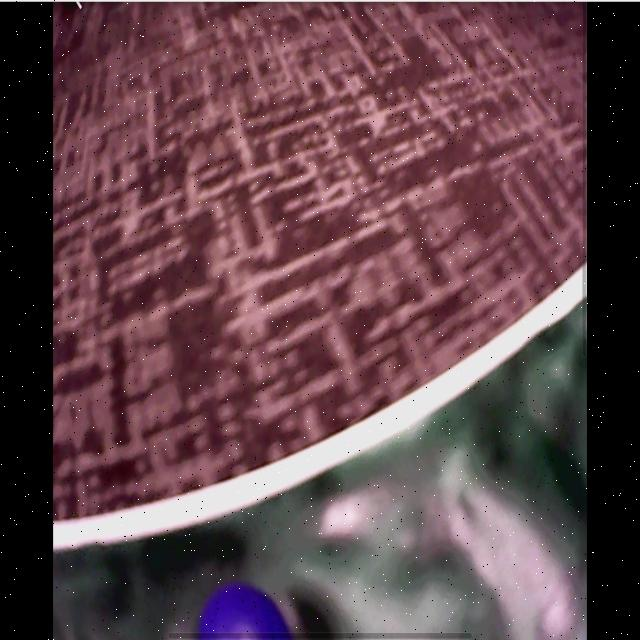ball: (195, 581, 288, 640)
